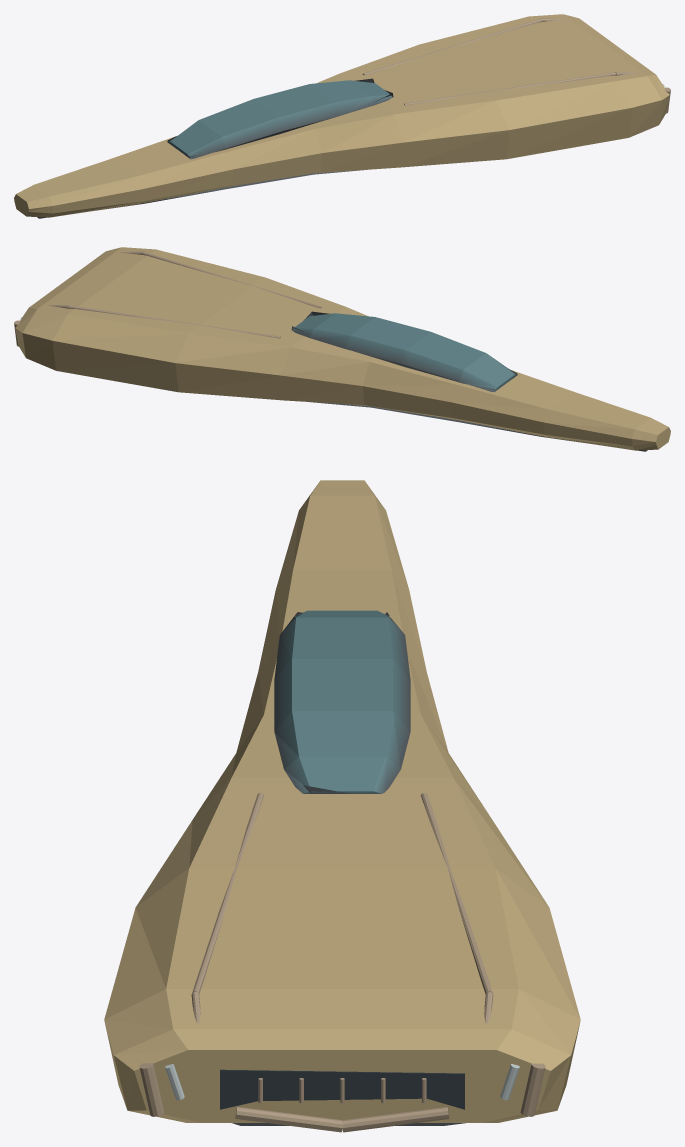
Rendered from jetjet_gold_parked.glb.
3 renders of one model, top to bottom at view 1: azimuth 30°, elevation 25°; view 2: azimuth 150°, elevation 25°; view 3: azimuth 270°, elevation 25°, orthographic. The views are drawn at different scales.
Visible parts, largest first — view 1: hull_0, cockpit_frame_2, bonnet_edge_3, lower_keel_1; view 2: hull_0, cockpit_frame_2, bonnet_edge_3, lower_keel_1; view 3: hull_0, cockpit_frame_2, front_grille_7, bonnet_edge_3, front_chevron_6, front_corner_4.
Boxes of the visible parts, box(x1,y1,x2,y2) form: hull_0: box(14, 14, 669, 217); cockpit_frame_2: box(167, 78, 393, 159); bonnet_edge_3: box(362, 18, 636, 105); lower_keel_1: box(37, 169, 367, 218); hull_0: box(15, 247, 670, 450); cockpit_frame_2: box(291, 311, 517, 392); bonnet_edge_3: box(48, 251, 322, 338); lower_keel_1: box(310, 402, 647, 451); hull_0: box(104, 480, 580, 1122); cockpit_frame_2: box(274, 610, 410, 793); front_grille_7: box(220, 1069, 464, 1109); bonnet_edge_3: box(191, 793, 493, 1023); front_chevron_6: box(235, 1107, 449, 1132); front_corner_4: box(139, 1063, 545, 1116).
Size of the model in its own units: 10.17 by 1.23 by 3.5.
